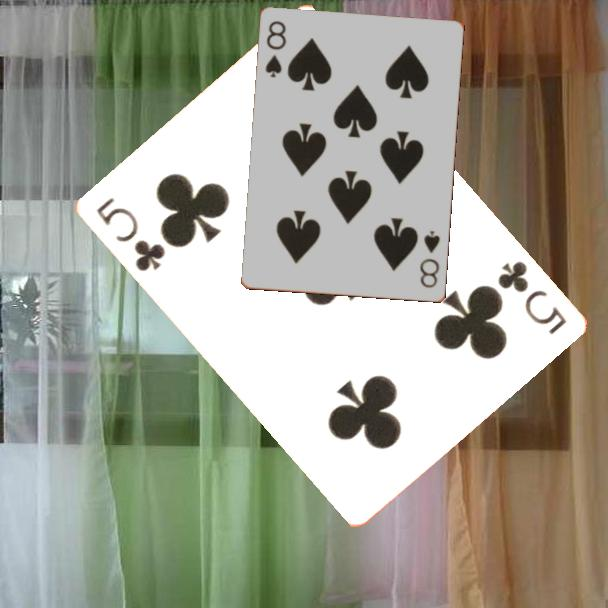c05: (92, 193, 168, 275), (493, 257, 569, 338)
s08: (262, 18, 289, 81), (417, 227, 443, 291)
